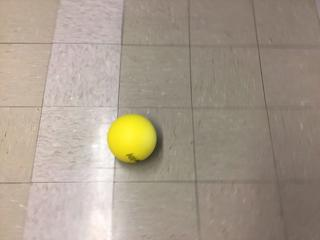power_cell: (107, 111, 159, 165)
